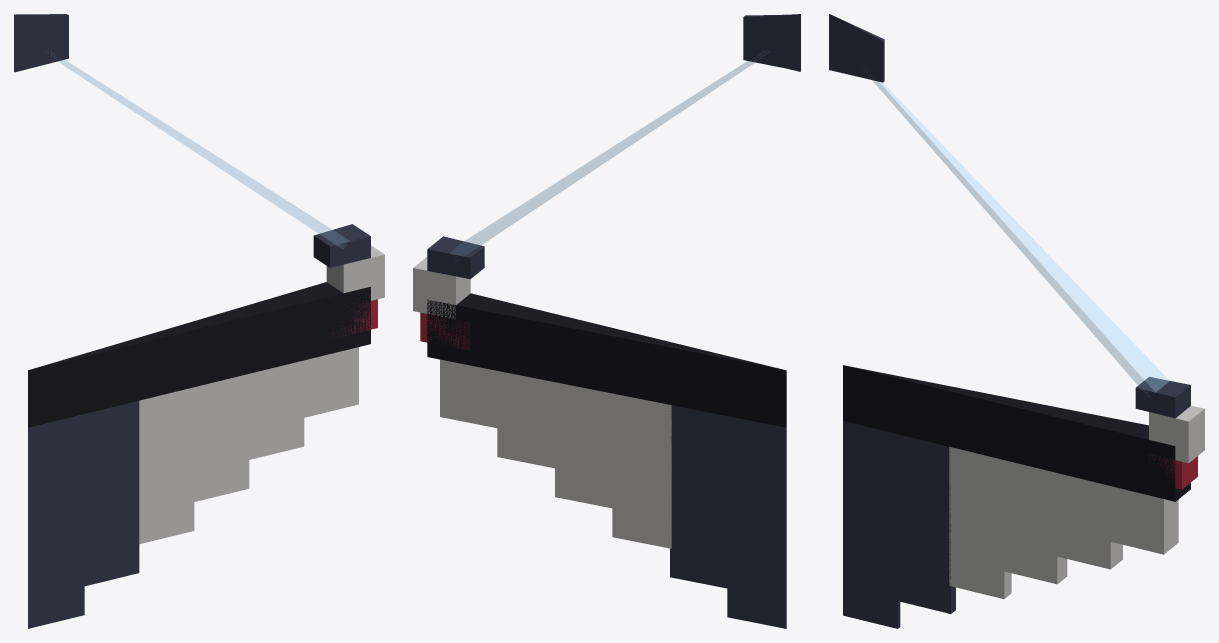
Rendered from canopy.corner5.deck.glb.
The picture shows the model from 3 angles, left to right: view 1: azimuth 30°, elevation 25°; view 2: azimuth 150°, elevation 25°; view 3: azimuth 330°, elevation 25°; orthographic projection. The views are drawn at different scales.
Parts seen in each view (by area): view 1: canopy.corner5.deck; view 2: canopy.corner5.deck; view 3: canopy.corner5.deck.
Part boxes in pixels (x1,y1,x2,y2): canopy.corner5.deck: (14, 14, 384, 628); canopy.corner5.deck: (413, 14, 800, 628); canopy.corner5.deck: (829, 14, 1204, 628).
Bounding box in the file's own units: 1.69 × 2.69 × 0.1471.
